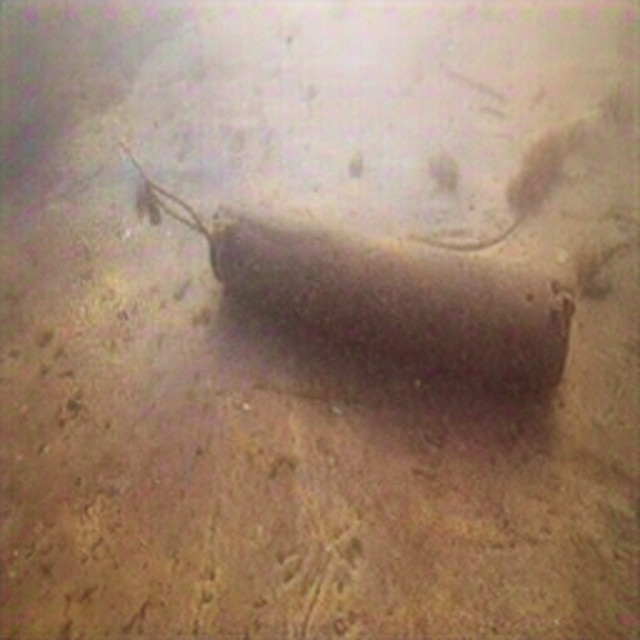mine: (209, 196, 574, 393)
